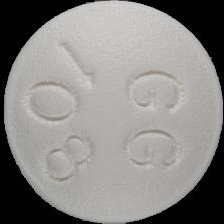0781-1048: (0, 0, 224, 224)
